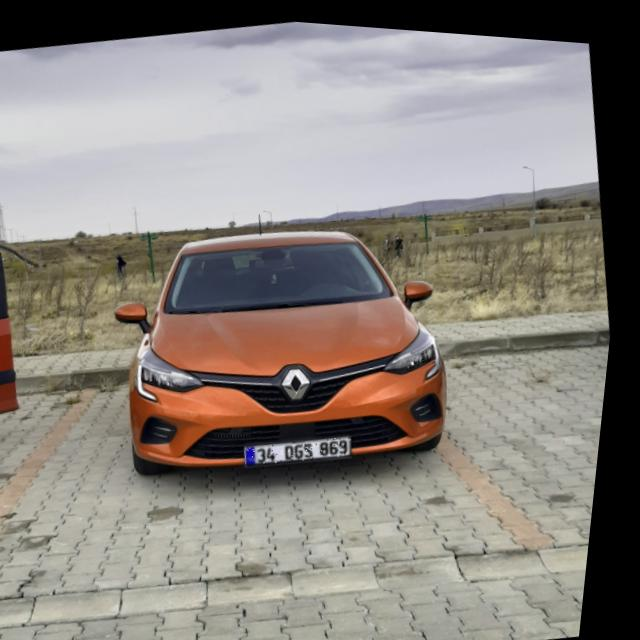license_plate: (253, 423, 362, 468)
